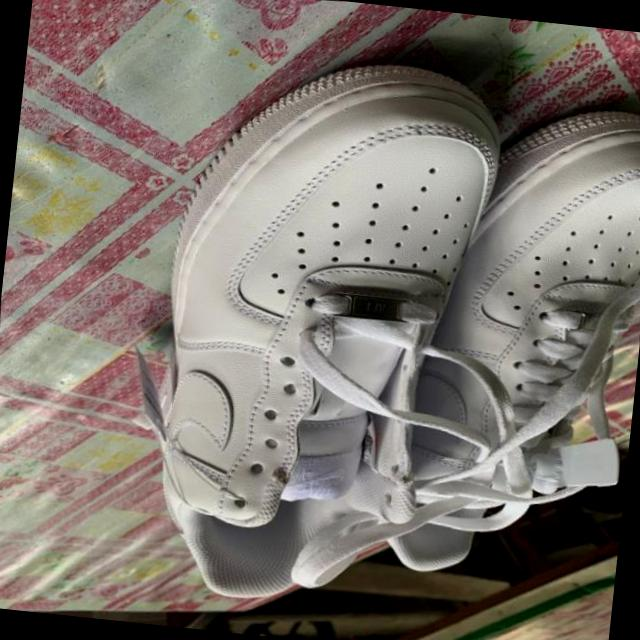nike_original_airforce: (128, 36, 529, 627), (348, 83, 640, 594)
